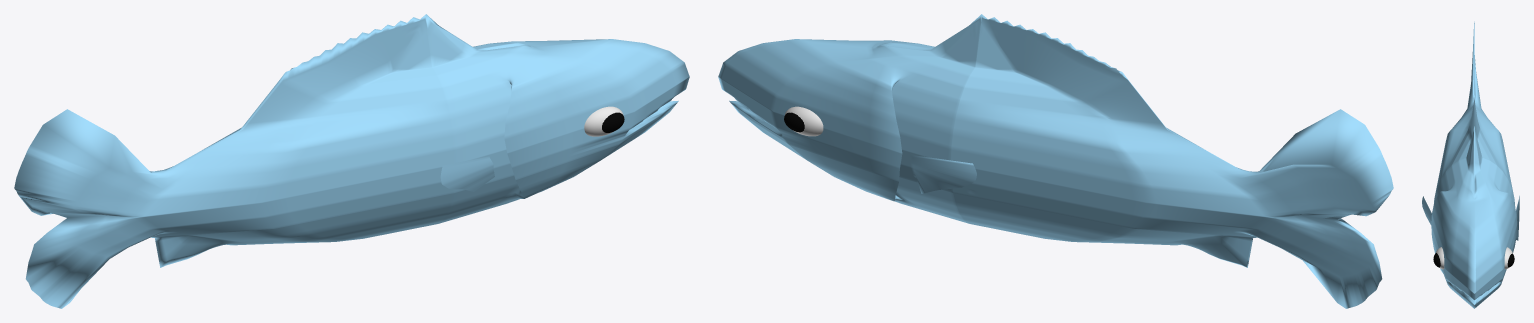
3 renders of one model, left to right at view 1: azimuth 30°, elevation 25°; view 2: azimuth 150°, elevation 25°; view 3: azimuth 270°, elevation 25°, orthographic. The views are drawn at different scales.
Visible parts, largest first — view 1: Sphere, Sphere.002; view 2: Sphere, Sphere.001; view 3: Sphere, Sphere.002, Sphere.001, Sphere.004.
Part boxes in pixels (bbox=[...]): Sphere: bbox=[14, 14, 689, 308]; Sphere.002: bbox=[584, 106, 623, 136]; Sphere: bbox=[718, 14, 1393, 308]; Sphere.001: bbox=[785, 106, 823, 136]; Sphere: bbox=[1422, 21, 1519, 308]; Sphere.002: bbox=[1435, 247, 1444, 269]; Sphere.001: bbox=[1504, 247, 1512, 269]; Sphere.004: bbox=[1433, 253, 1440, 267].
Size of the model in its own units: 7.76 by 2.28 by 1.48.
